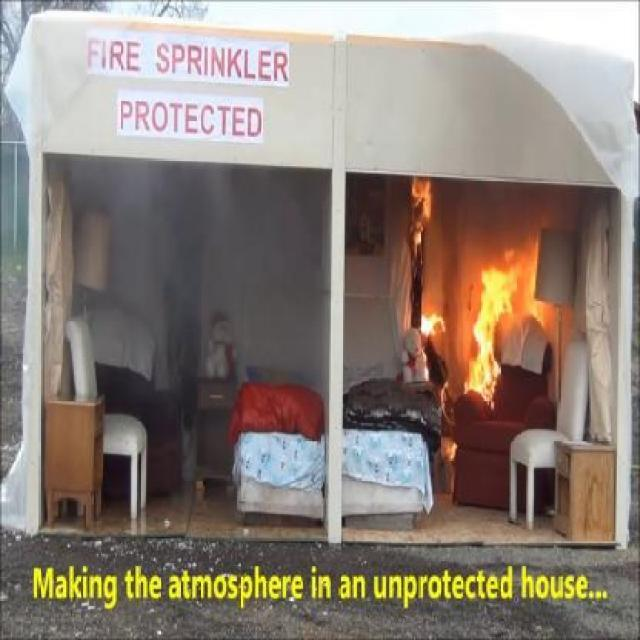fire: (454, 237, 514, 406)
smoke: (77, 148, 320, 354)
